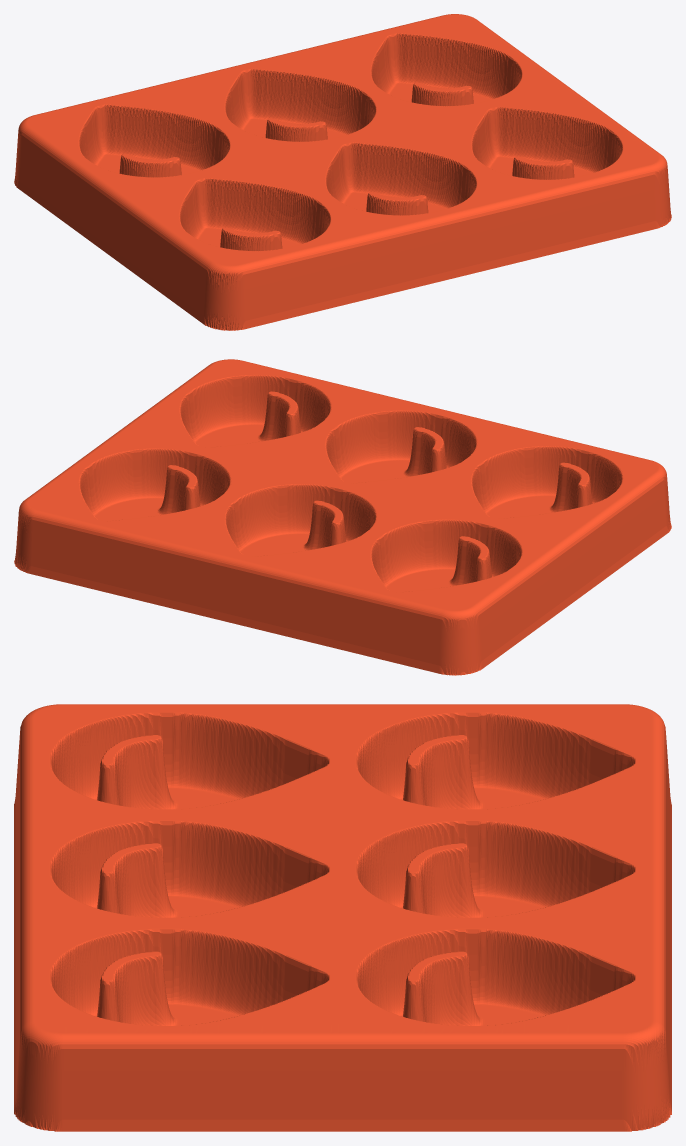
Rendered from mold.glb.
3 renders of one model, top to bottom at view 1: azimuth 30°, elevation 25°; view 2: azimuth 150°, elevation 25°; view 3: azimuth 270°, elevation 25°, orthographic. The views are drawn at different scales.
Visible parts, largest first — view 1: geometry_0; view 2: geometry_0; view 3: geometry_0.
Boxes of the visible parts, x1,y1,x2,y2 form: geometry_0: (14, 14, 671, 330); geometry_0: (14, 359, 671, 675); geometry_0: (14, 704, 671, 1131).
Bounding box in the file's own units: 0.1514 × 0.0185 × 0.1222.
